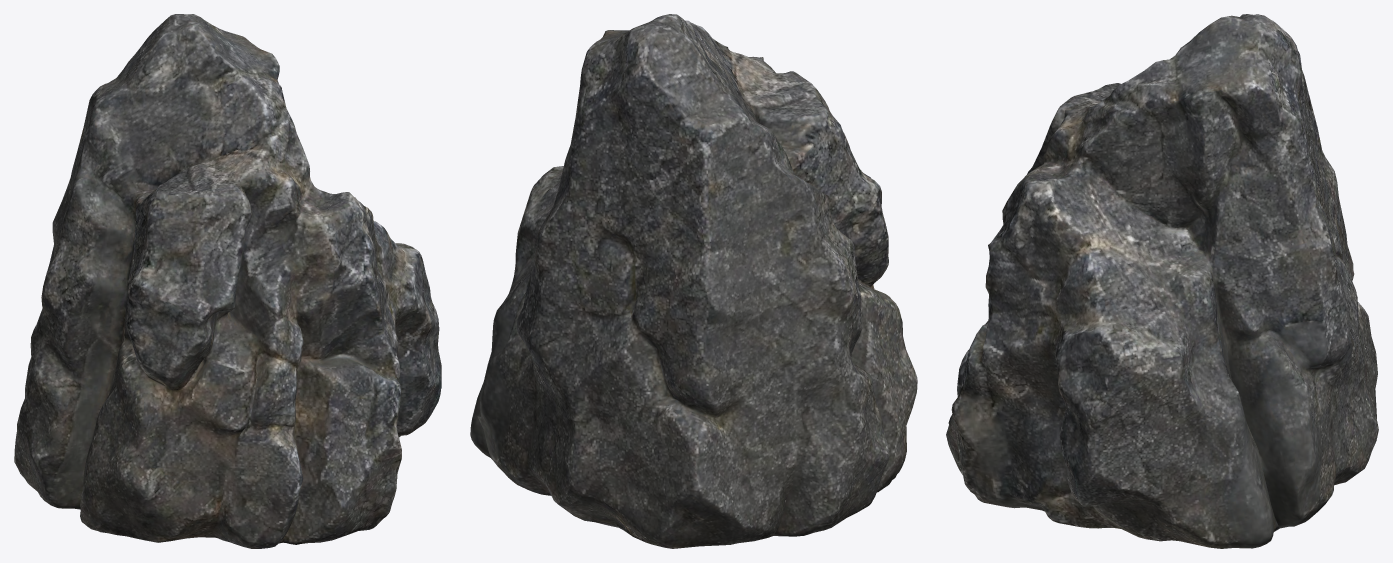
File: rock-0.glb
3 views of the same model, side by side, from view 1: azimuth 30°, elevation 25°; view 2: azimuth 150°, elevation 25°; view 3: azimuth 270°, elevation 25° (orthographic). The views are drawn at different scales.
Visible parts, largest first — view 1: tripo_node_79967b4a-be37-4ae7-aff3-62c5483e1028; view 2: tripo_node_79967b4a-be37-4ae7-aff3-62c5483e1028; view 3: tripo_node_79967b4a-be37-4ae7-aff3-62c5483e1028.
Boxes of the visible parts, <box> form: tripo_node_79967b4a-be37-4ae7-aff3-62c5483e1028: <box>14,14,441,548</box>; tripo_node_79967b4a-be37-4ae7-aff3-62c5483e1028: <box>470,14,917,548</box>; tripo_node_79967b4a-be37-4ae7-aff3-62c5483e1028: <box>946,14,1378,548</box>.
Size of the model in its own units: 0.4345 by 0.4946 by 0.4284.
Materials: 1 (1 with a texture image).
